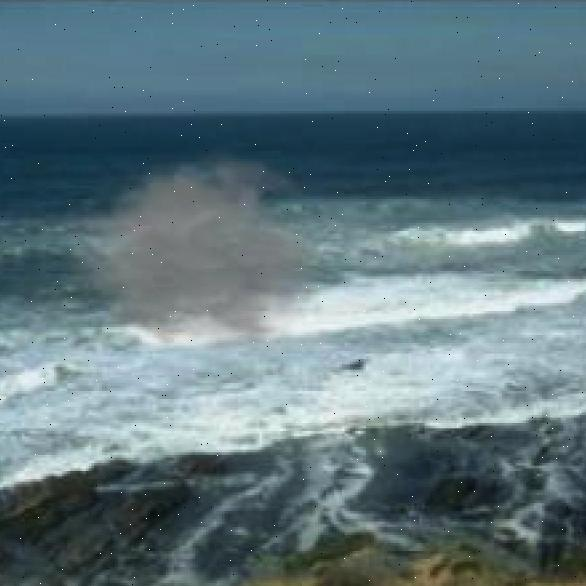smoke: (54, 141, 334, 355)
